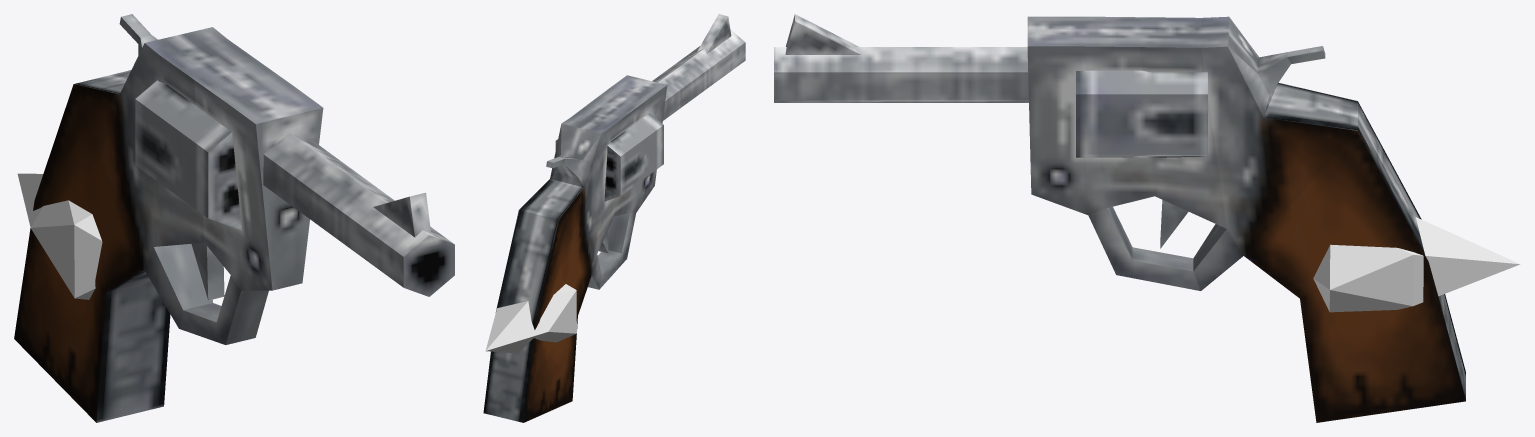
Rendered from bullet.fbx.
3 renders of one model, left to right at view 1: azimuth 30°, elevation 25°; view 2: azimuth 150°, elevation 25°; view 3: azimuth 270°, elevation 25°, orthographic. The views are drawn at different scales.
Parts seen in each view (by area): view 1: Cube, Icosphere; view 2: Cube, Icosphere; view 3: Cube, Icosphere.
Boxes of the visible parts, x1,y1,x2,y2 form: Cube: (14, 14, 454, 422); Icosphere: (17, 173, 102, 299); Cube: (483, 14, 745, 422); Icosphere: (485, 284, 576, 353); Cube: (774, 14, 1465, 422); Icosphere: (1313, 217, 1520, 312).
Size of the model in its own units: 71.31 by 257 by 445.
Materials: 1 (1 with a texture image).
